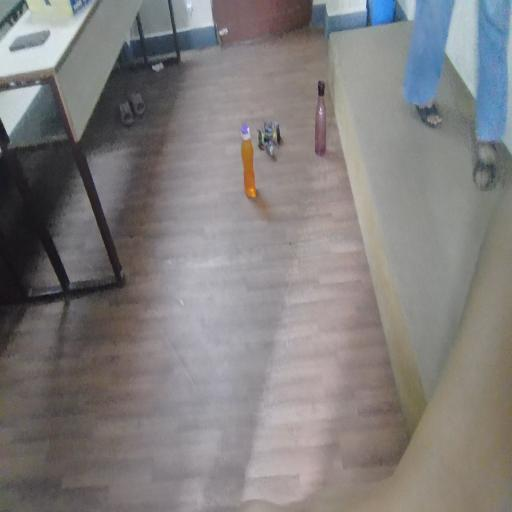Bottle: (239, 119, 263, 200), (313, 76, 326, 166)
car: (258, 123, 284, 151)
